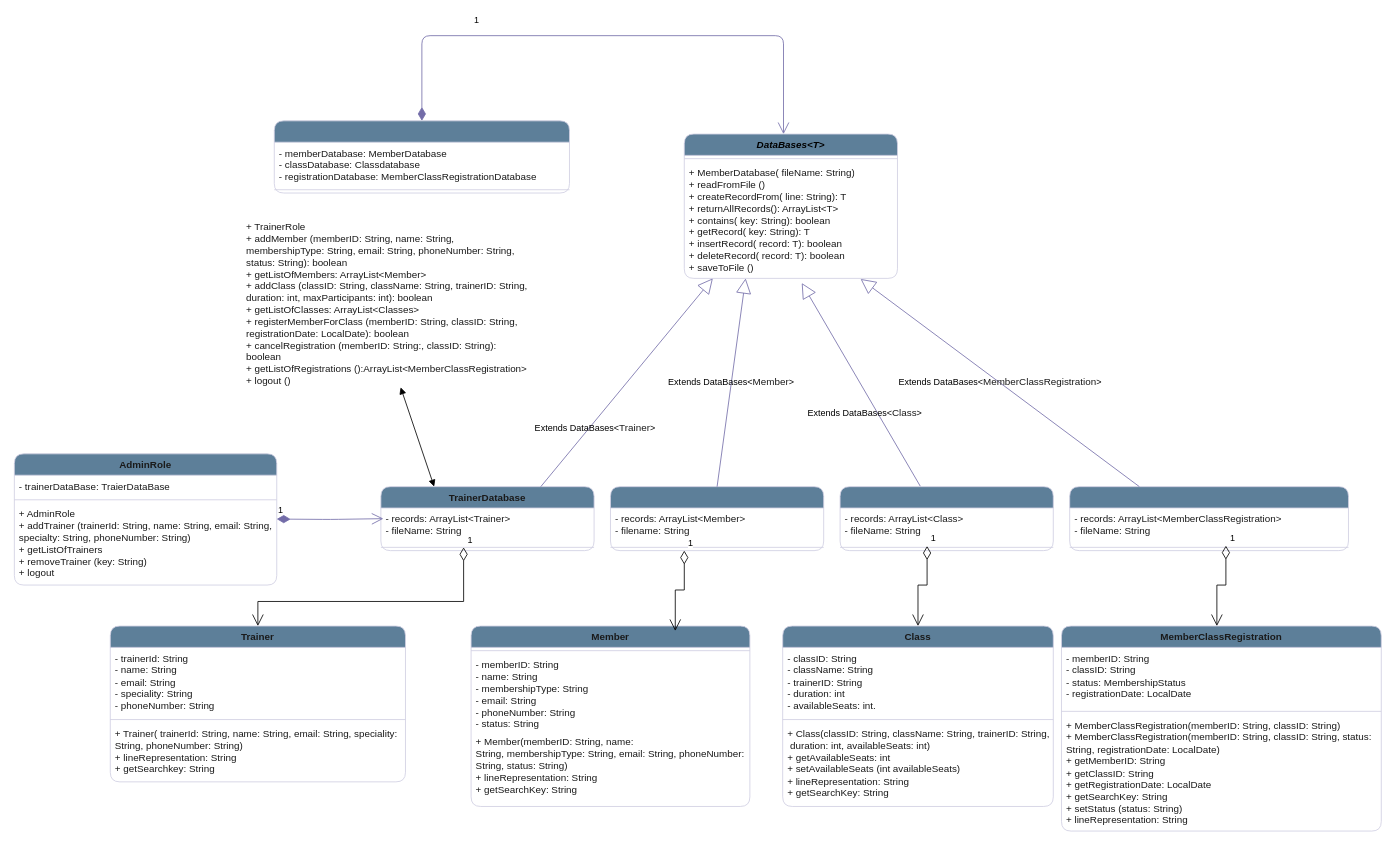
This 1396x847 diagram has some shape labels left out. Here are the shapes that lost their labels. From the top down, the box of each, then its label:
(273, 120, 569, 193): TrainerRole
(610, 486, 824, 551): MemberDatabase
(839, 486, 1053, 551): ClassDatabase
(1069, 486, 1348, 551): MemberClassRegistrationDatabase
